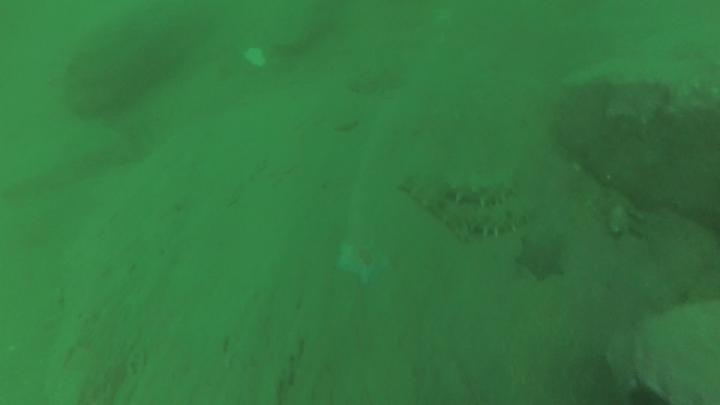holothurian: (439, 168, 528, 209), (460, 202, 546, 242)
